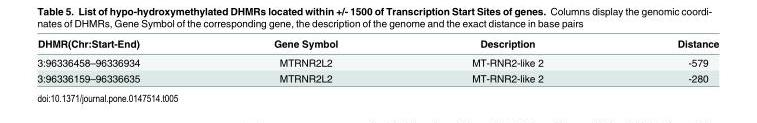table: (36, 37, 718, 83)
table column: (404, 37, 609, 83), (206, 37, 404, 83), (36, 37, 206, 83), (609, 37, 718, 83)
table column header: (36, 37, 718, 52)
table row: (36, 52, 718, 70), (36, 37, 718, 52), (36, 70, 718, 83)
